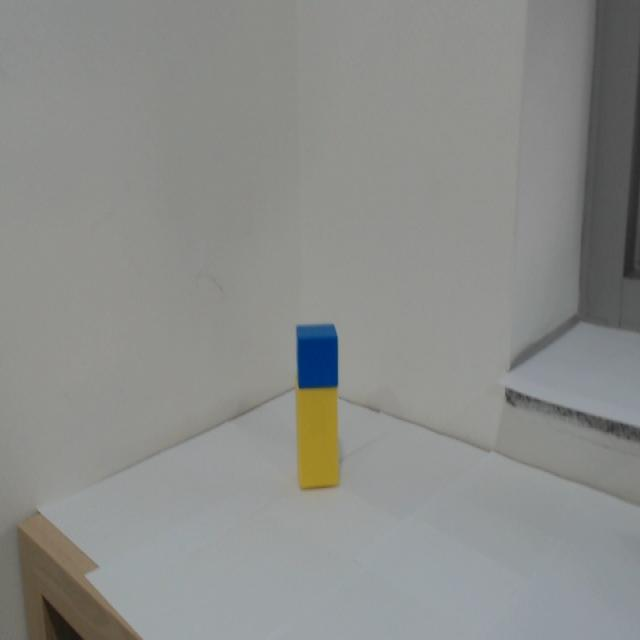cube: (295, 323, 339, 389)
